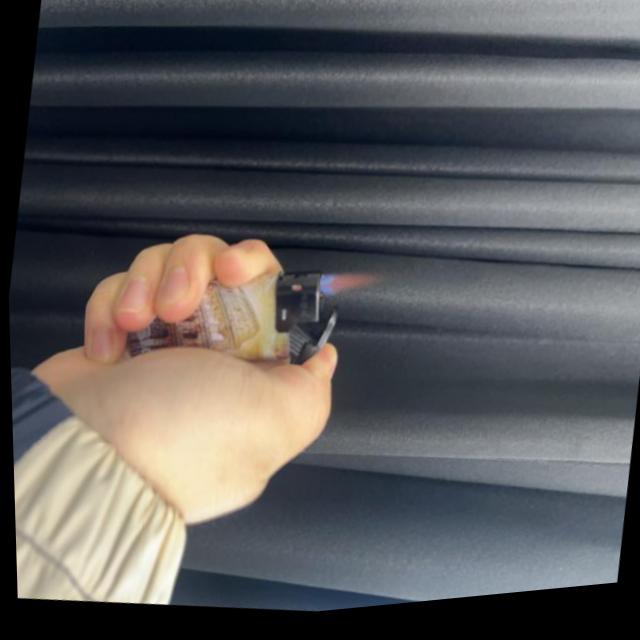Fire: (315, 268, 377, 309)
